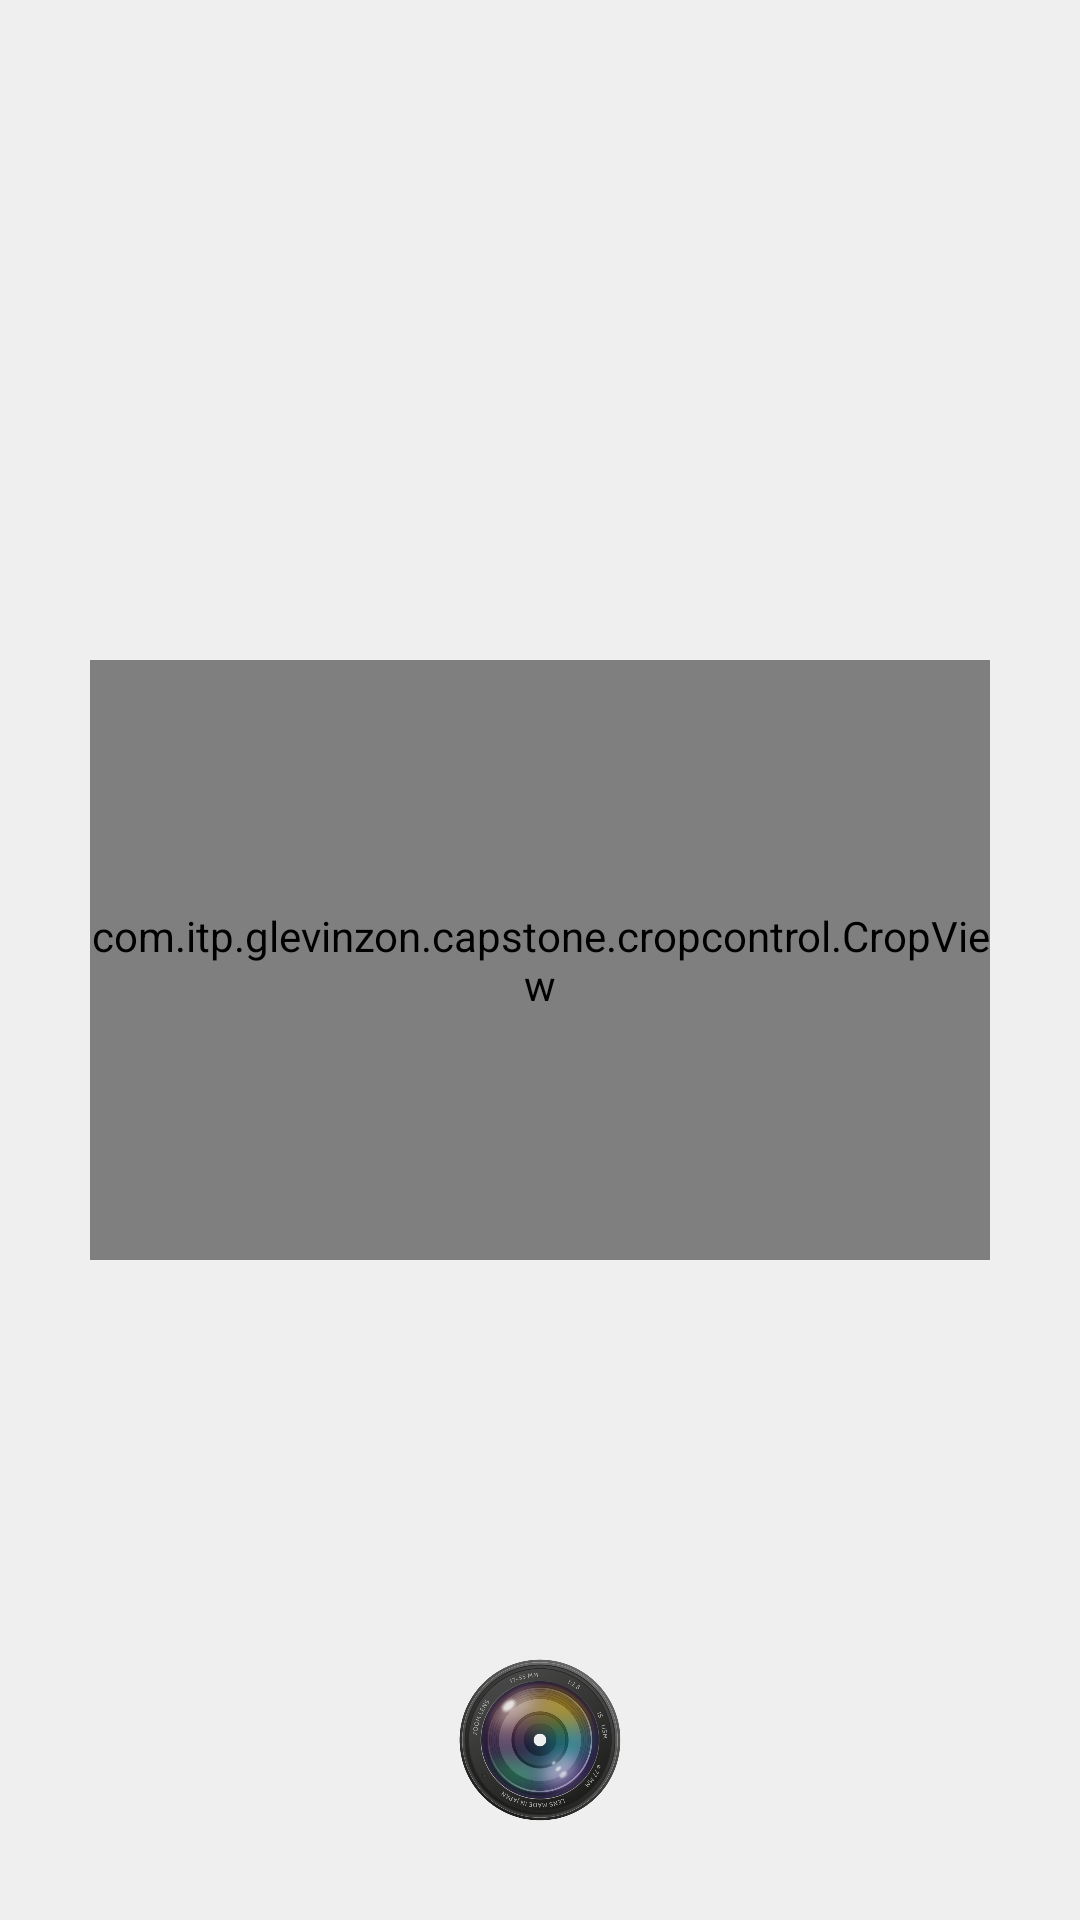

Screen size 1080 × 1920. Icon name, then its center in pixels as (x,y):
shutter: (539,1739)
